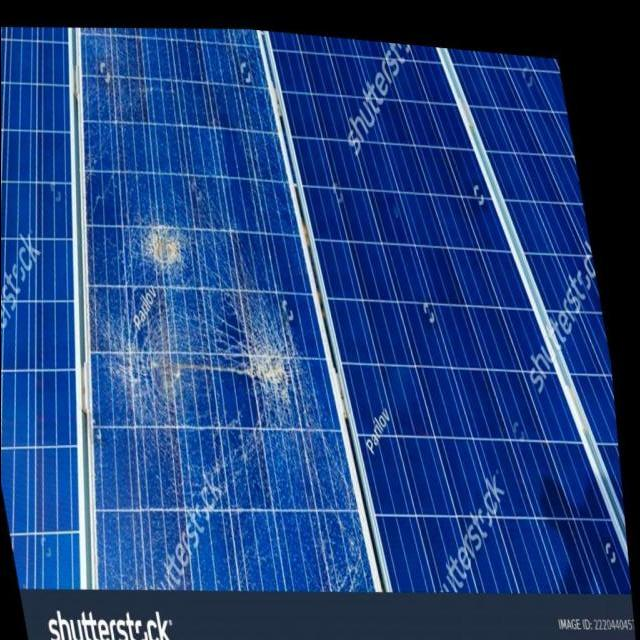cracked: (76, 28, 362, 598)
